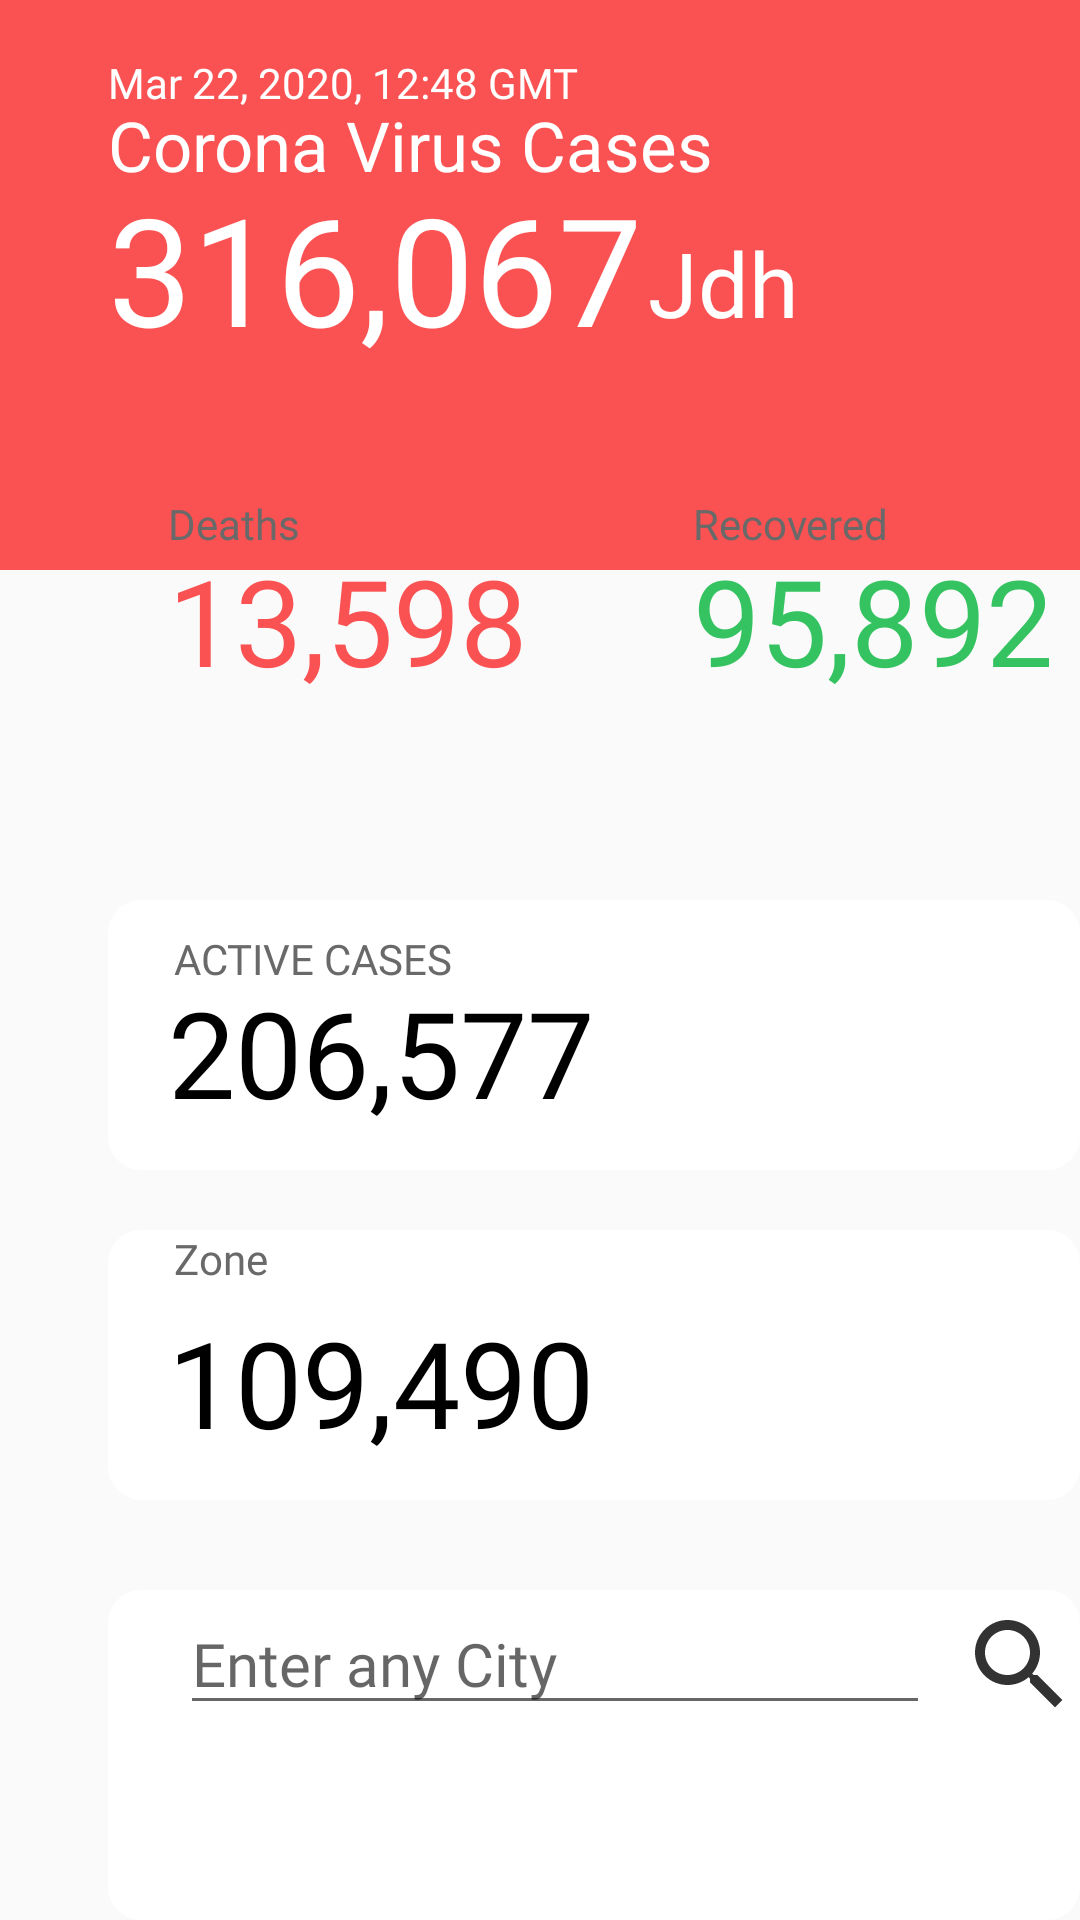

Icons on this 1080x1920 Android screen, each with the point to tap as point (x, y):
searchbtn: point (1018, 1663)
